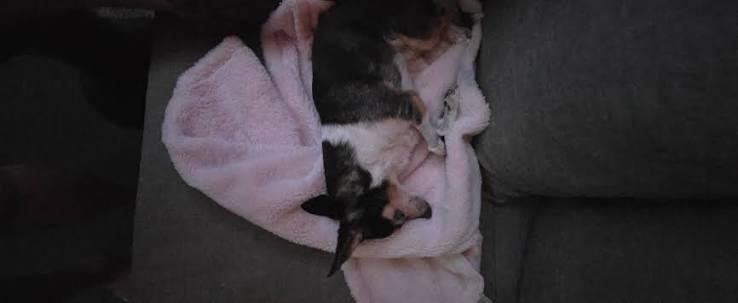adult_dog: (300, 2, 480, 271)
